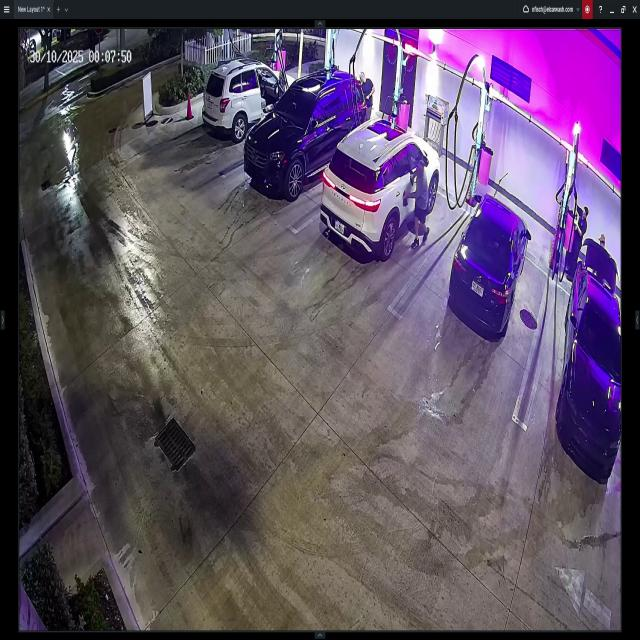Car: (319, 120, 441, 263), (246, 70, 368, 196), (561, 238, 624, 482), (448, 196, 530, 338), (203, 57, 297, 139)
